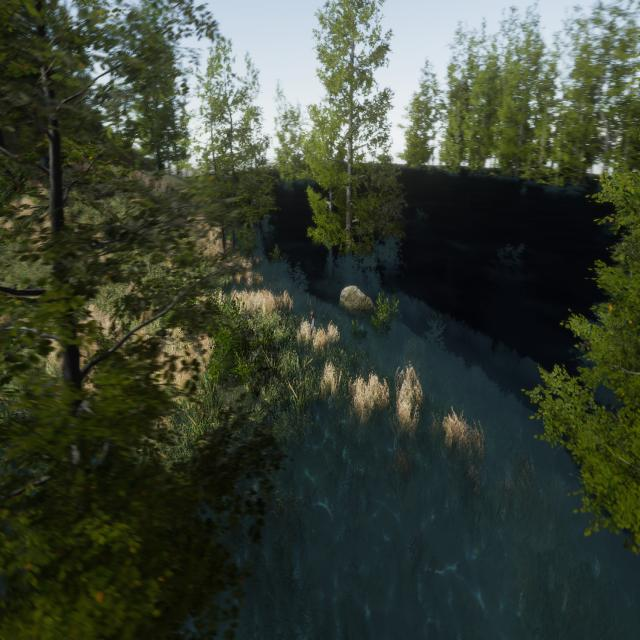Human: (303, 300, 320, 352)
